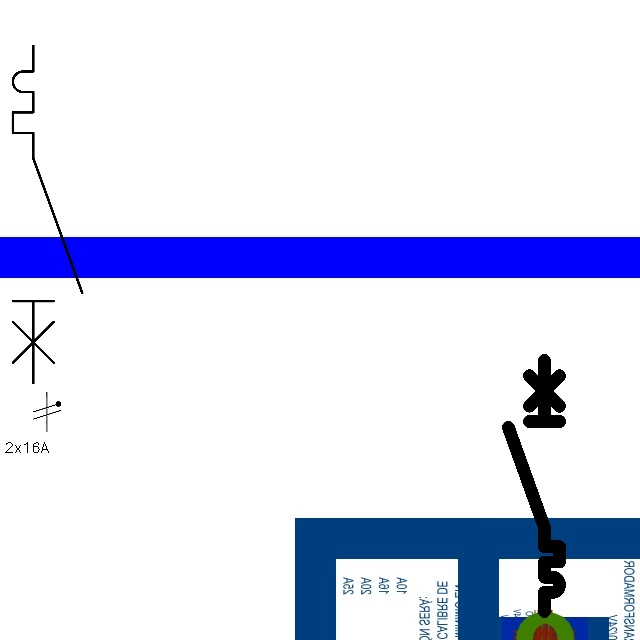interruptor_termomagnetico: (4, 37, 91, 392), (502, 354, 566, 618)
